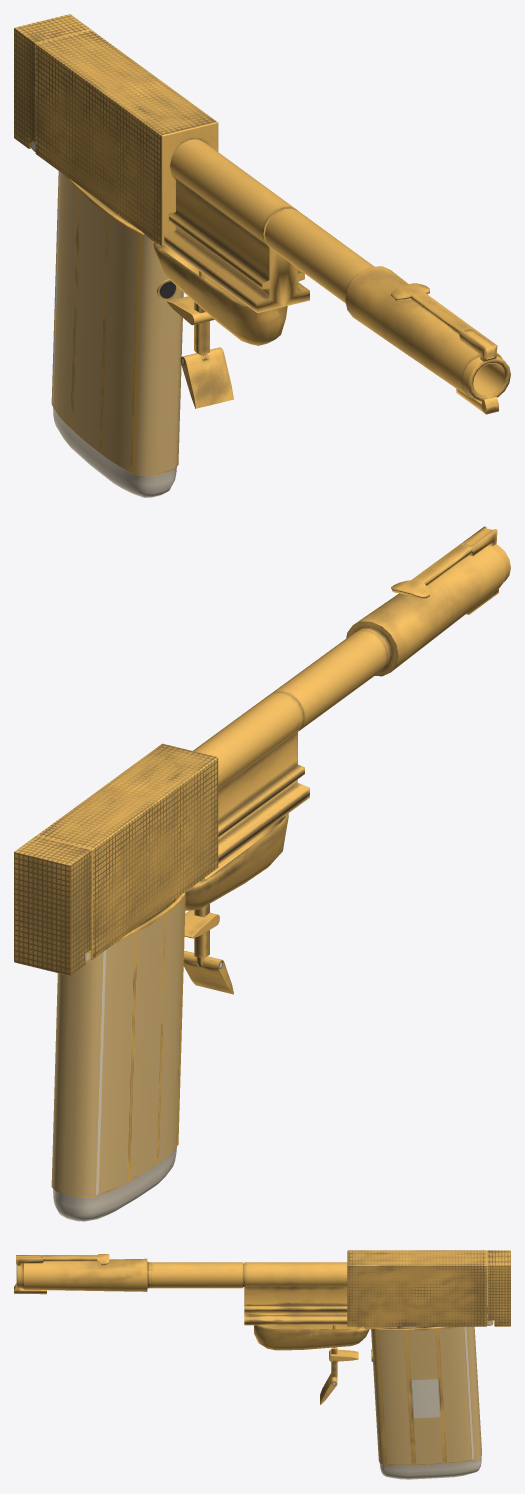
Rendered from Goldengun.glb.
The picture shows the model from 3 angles, top to bottom: view 1: azimuth 30°, elevation 25°; view 2: azimuth 150°, elevation 25°; view 3: azimuth 270°, elevation 25°; orthographic projection. The views are drawn at different scales.
Parts seen in each view (by area): view 1: Goldengun; view 2: Goldengun; view 3: Goldengun.
Part boxes in pixels (x1,y1,x2,y2): Goldengun: [14, 14, 510, 497]; Goldengun: [14, 526, 510, 1221]; Goldengun: [14, 1250, 510, 1479].
Bounding box in the file's own units: 0.1069 × 0.6915 × 1.41.
Materials: 2 (1 with a texture image).
